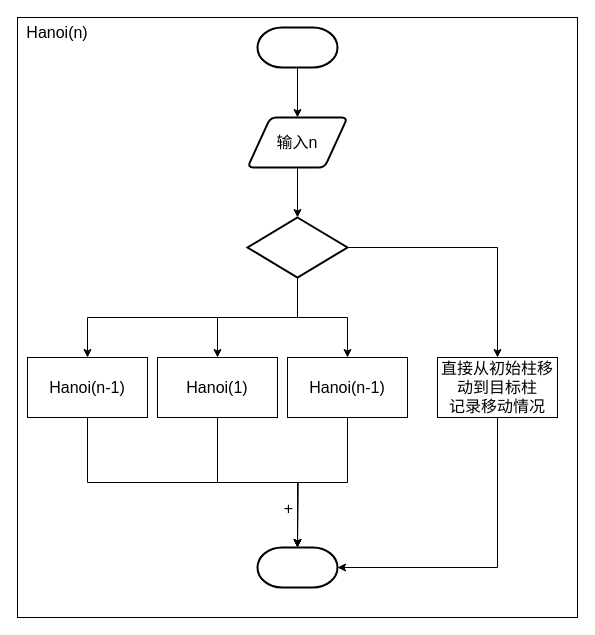
Image size: 595x635. Some labels were removed from this diagram. The shapes that lost their labels are listed below. From the top down, each one's box as (x1, y1, x2, y2) in pixels, then its label:
(256, 26, 338, 68): 开始
(246, 216, 348, 278): n=1?
(256, 546, 338, 588): 结束
